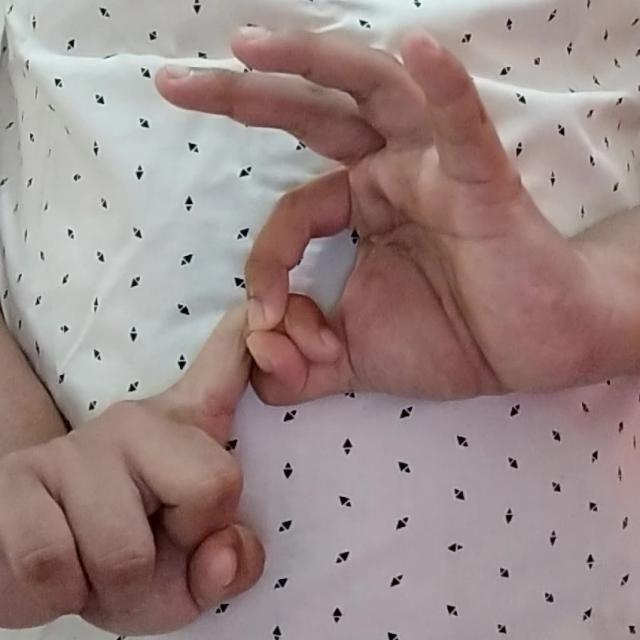Q: (31, 12, 534, 627)
